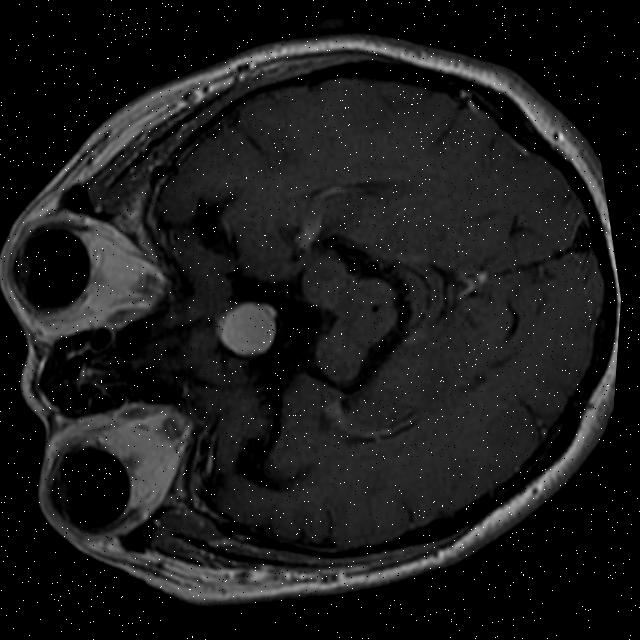Pituitary: (208, 295, 286, 363)
